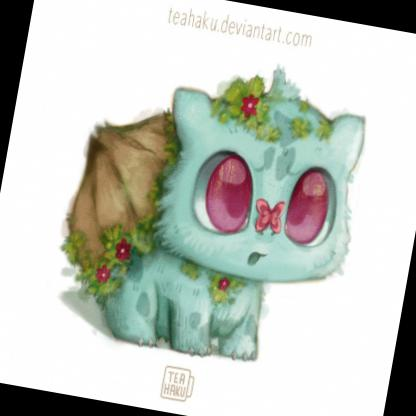Bulbasaur: (1, 1, 411, 416)
